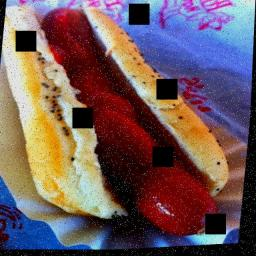hotdog: (62, 44, 168, 176), (111, 166, 225, 244), (41, 4, 91, 62)
